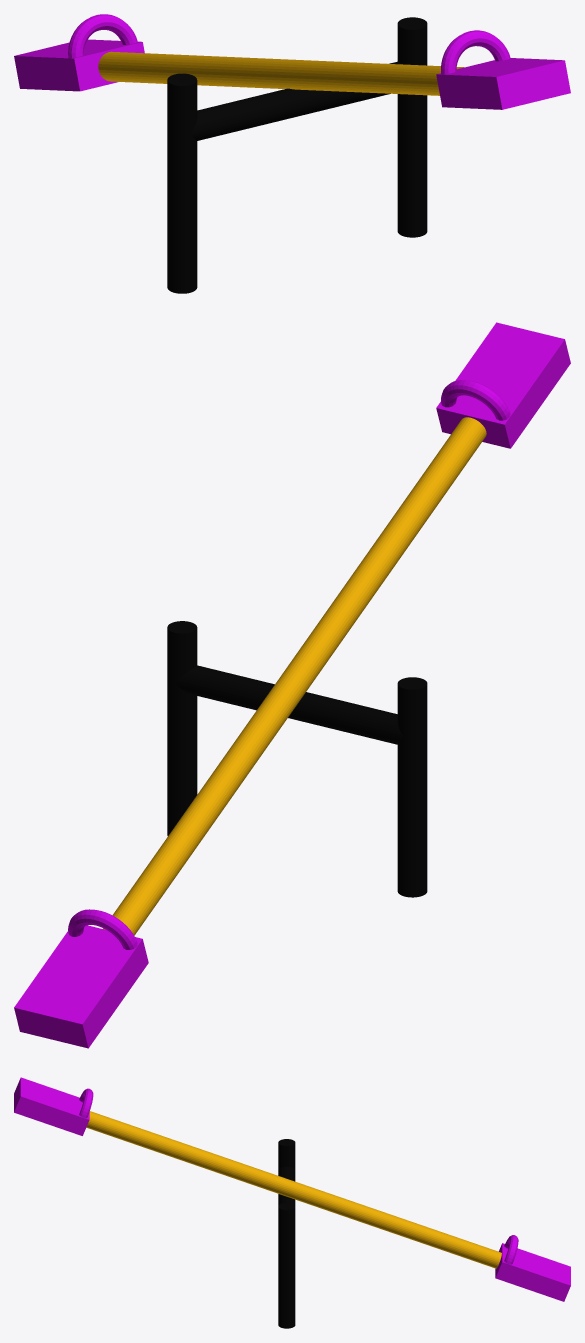
The model's file is tahterevalli.fbx.
The picture shows the model from 3 angles, top to bottom: view 1: azimuth 30°, elevation 25°; view 2: azimuth 150°, elevation 25°; view 3: azimuth 270°, elevation 25°; orthographic projection. The views are drawn at different scales.
Parts seen in each view (by area): view 1: Cylinder.003, Koltuk.001, Cylinder, Cylinder.001, Koltuk, Cylinder.002; view 2: Cylinder.003, Koltuk, Koltuk.001, Cylinder, Cylinder.002, Cylinder.001; view 3: Cylinder.003, Koltuk.001, Koltuk, Cylinder.001, Cylinder, Cylinder.002.
Part boxes in pixels (bbox=[...]): Cylinder.003: bbox=[98, 51, 463, 95]; Koltuk.001: bbox=[436, 30, 570, 109]; Cylinder: bbox=[167, 73, 197, 293]; Cylinder.001: bbox=[397, 17, 427, 237]; Koltuk: bbox=[14, 14, 144, 91]; Cylinder.002: bbox=[188, 61, 400, 140]; Cylinder.003: bbox=[103, 417, 486, 935]; Koltuk: bbox=[14, 909, 148, 1048]; Koltuk.001: bbox=[436, 322, 570, 448]; Cylinder: bbox=[397, 677, 427, 897]; Cylinder.002: bbox=[173, 665, 406, 744]; Cylinder.001: bbox=[167, 621, 197, 835]; Cylinder.003: bbox=[86, 1111, 501, 1268]; Koltuk.001: bbox=[14, 1077, 93, 1135]; Koltuk: bbox=[495, 1235, 570, 1301]; Cylinder.001: bbox=[278, 1203, 295, 1328]; Cylinder: bbox=[278, 1139, 295, 1169]; Cylinder.002: bbox=[278, 1166, 295, 1205].
Size of the model in its own units: 2.22 by 3 by 7.35.
